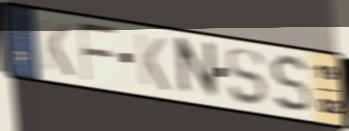F: (76, 21, 119, 84)
K: (37, 16, 76, 79), (133, 30, 171, 94)
N: (176, 35, 221, 103)
S: (268, 52, 313, 116), (224, 47, 268, 108)
